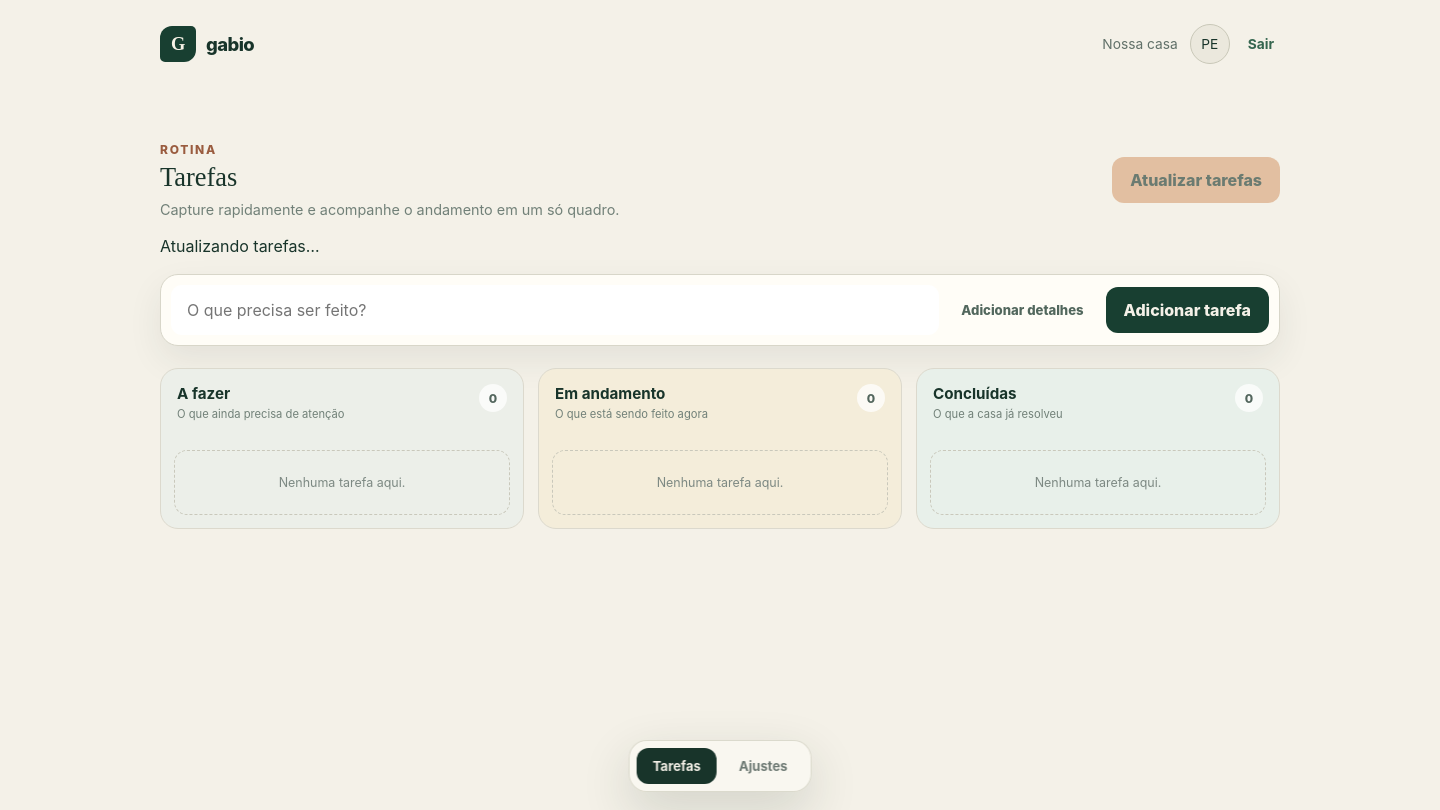
Test case: App › opens the task MVP without finance or Telegram navigation
Expected: the heading "Tarefas" is shown, [160,162,237,192]
Click the link "Ajustes" at {"x": 763, "y": 766}, box [739,758,787,774]
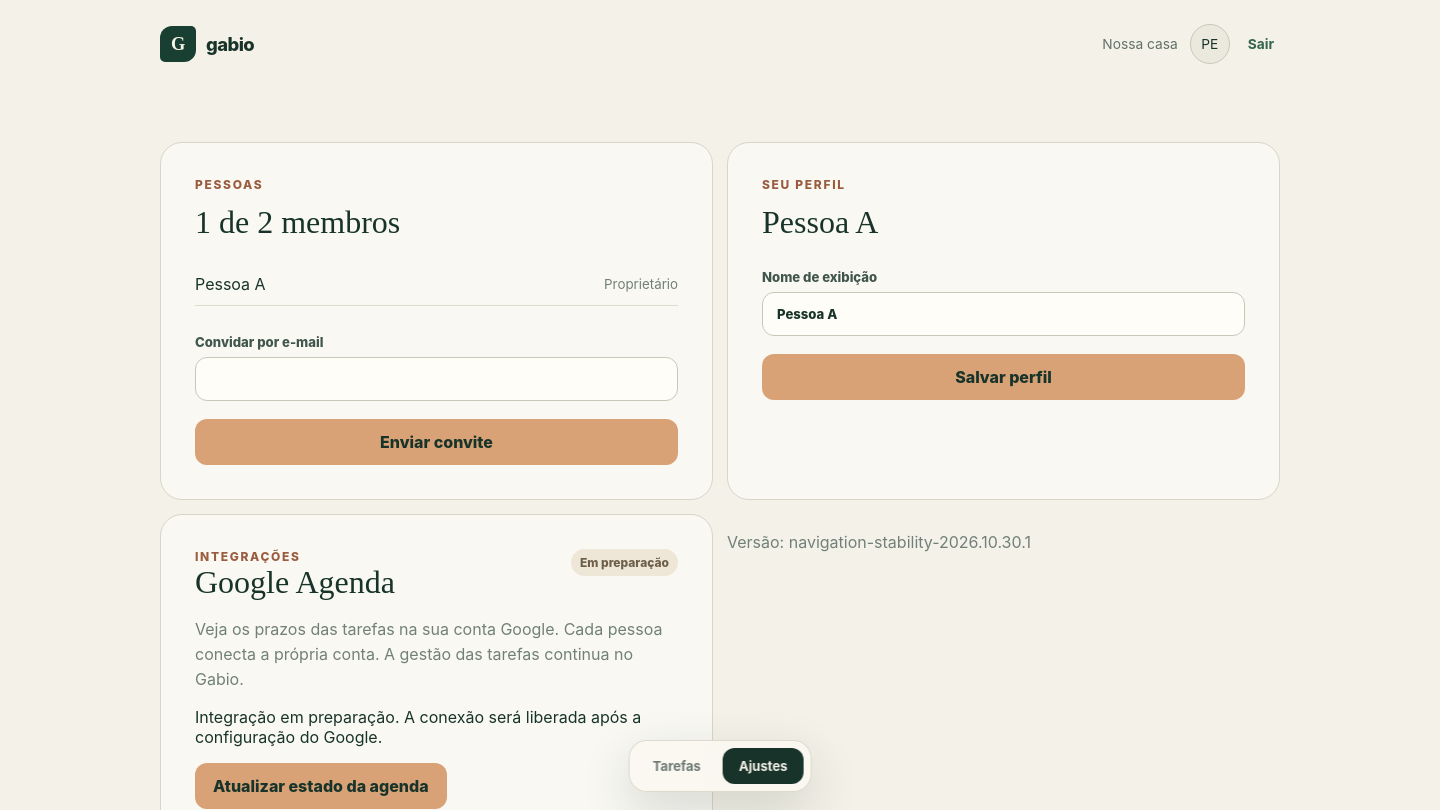
Now the field labelled "Nome de exibição" is shown, box [762,292,1245,336]
